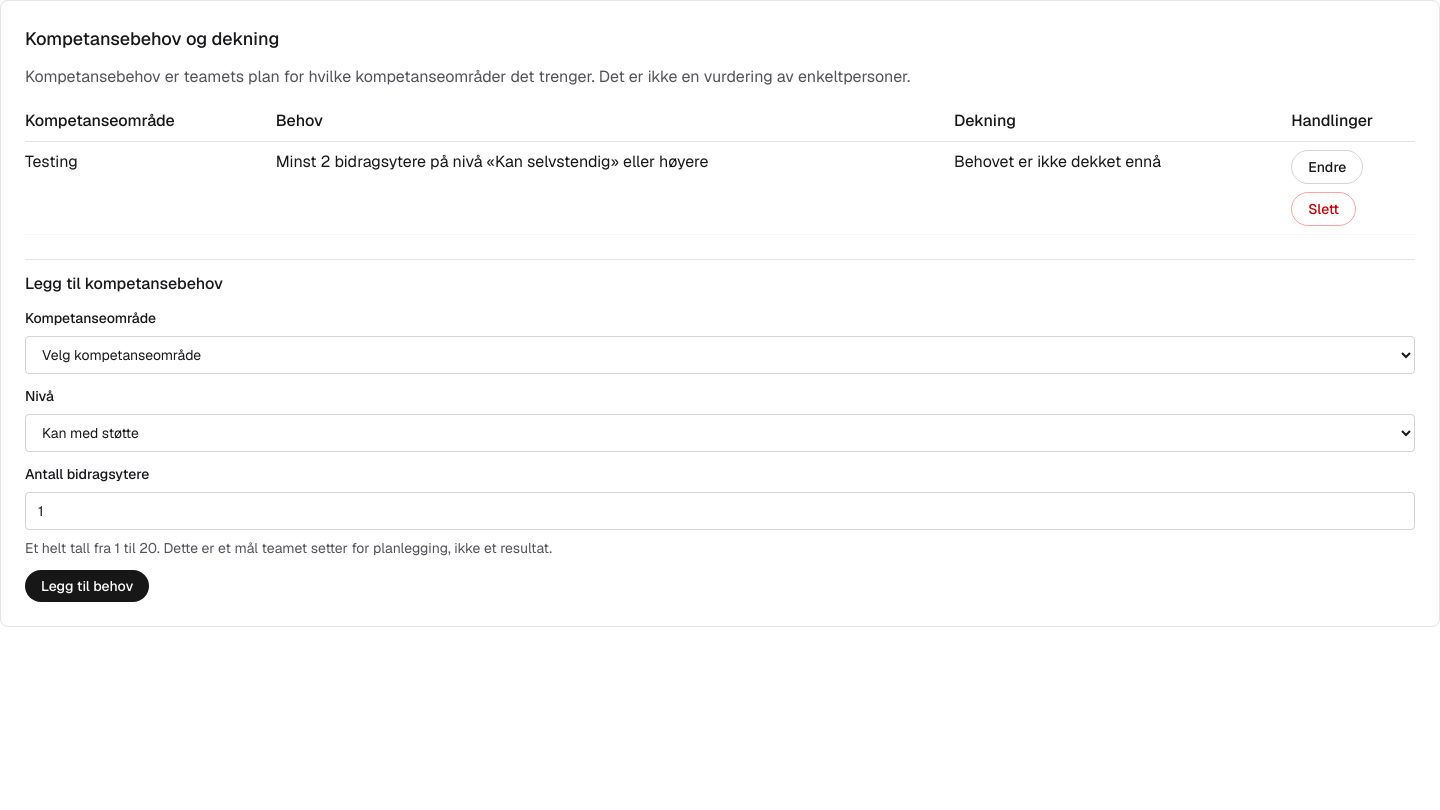
TeamSkillNeedsSection — add › rejects a target of 0 with an associated error and no request
Expected: the heading "Kompetansebehov og dekning" is shown, [25,27,279,50]
Select "Sikkerhet" in the dropdown labelled "Kompetanseområde". click: (720, 355)
box: [25,336,1415,374]
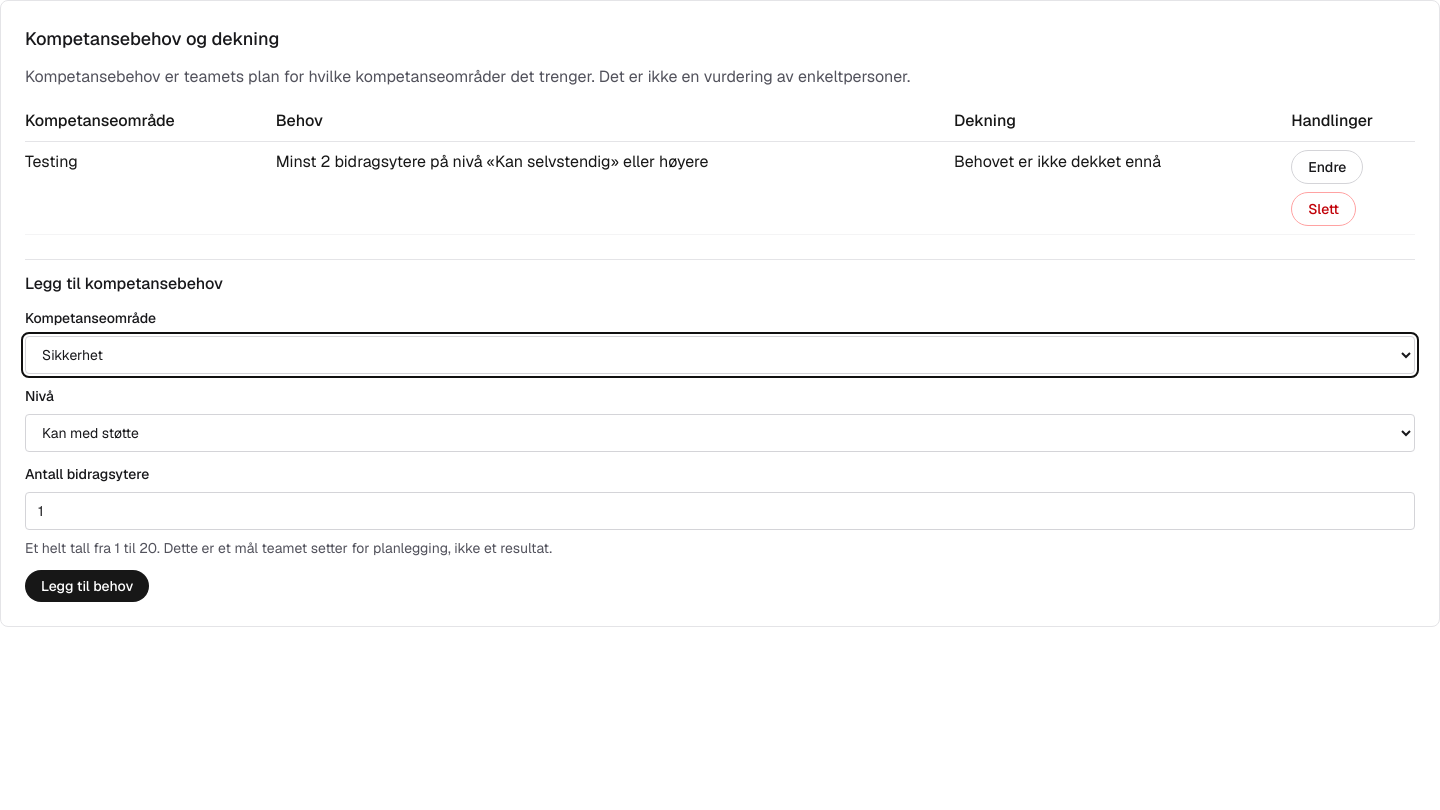
Replace the text in the number field labelled "Antall bidragsytere" with "0". click: (720, 511)
box: [25,492,1415,530]
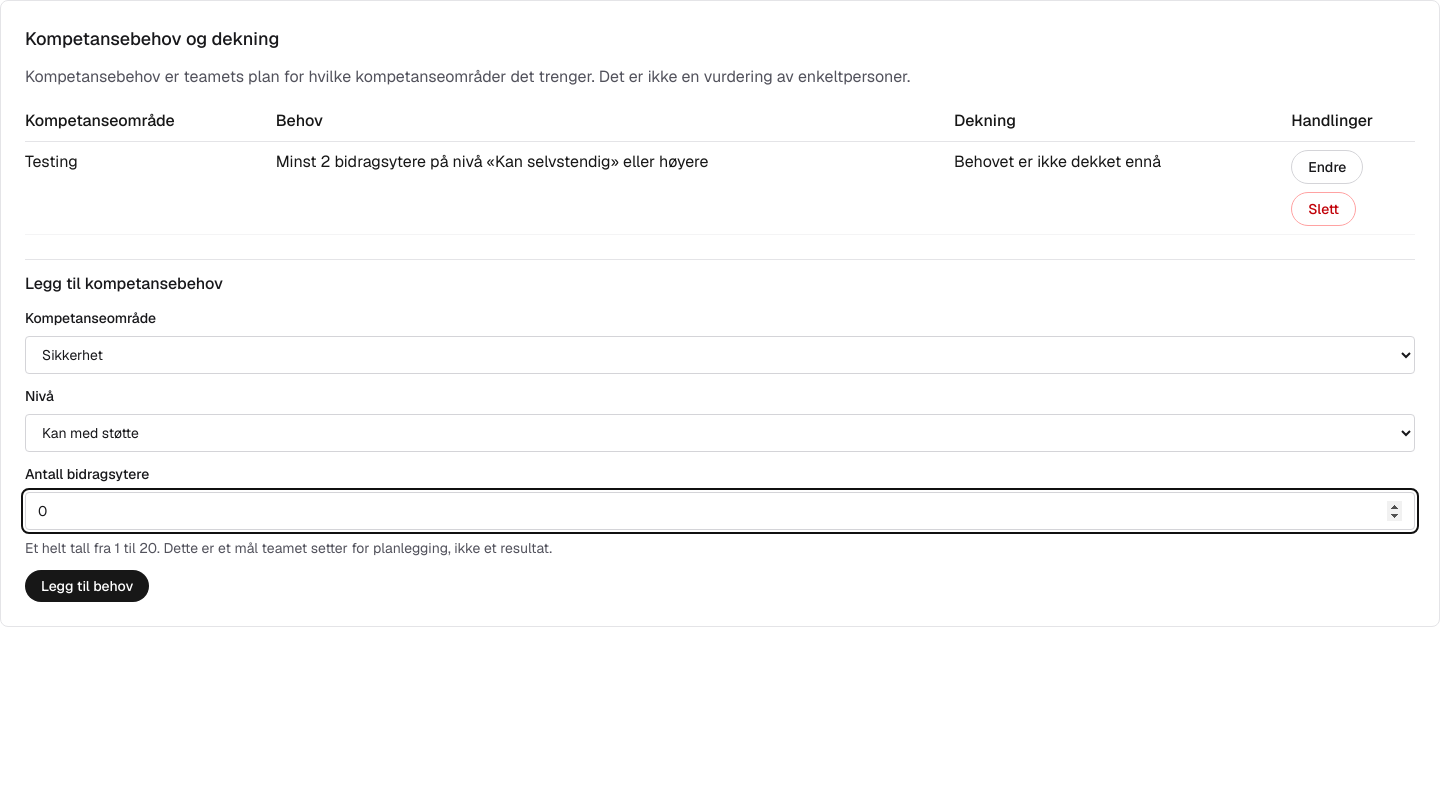
Click the button "Legg til behov". click: (87, 586)
box: [25,570,149,602]
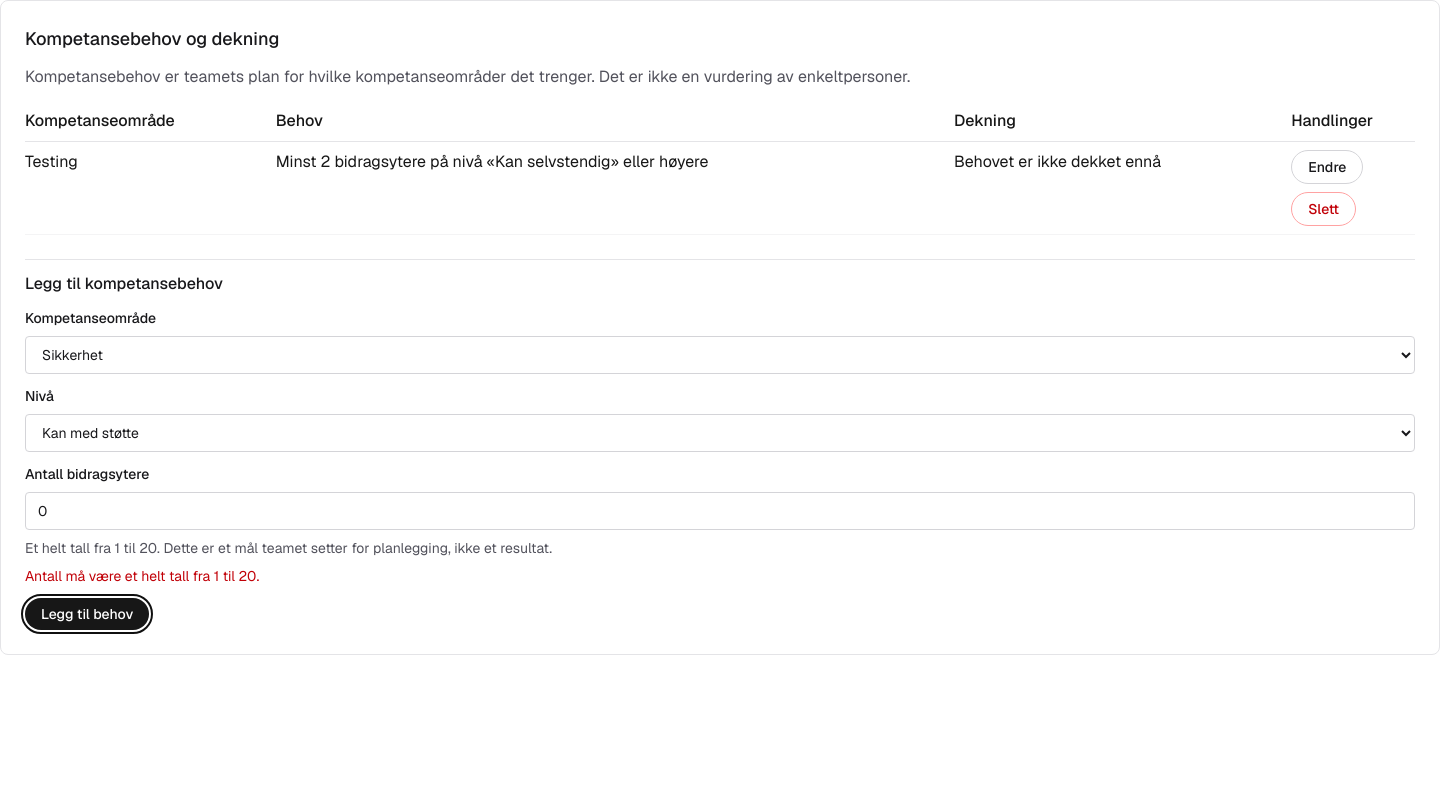
Result: the text "Antall må være et helt tall fra 1 til 20." is shown at [25,567,259,585]
